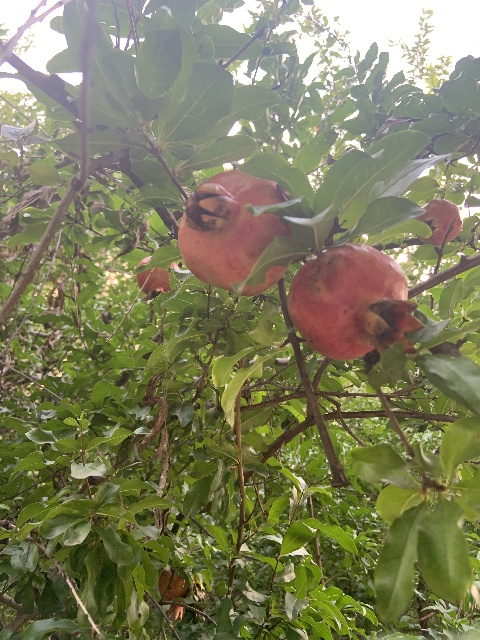early-fruit: (158, 570, 188, 620)
ripe: (287, 242, 425, 361), (178, 170, 292, 294), (415, 199, 461, 244), (136, 255, 180, 299)
